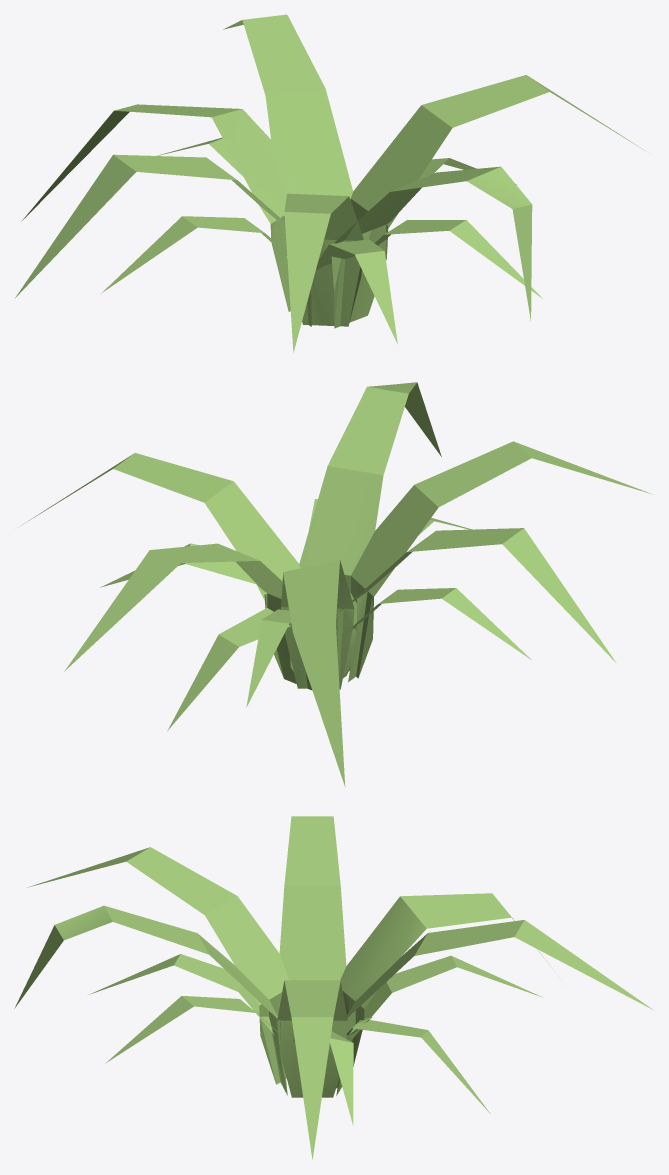
Rendered from Bush_Fern_03.fbx.
The picture shows the model from 3 angles, top to bottom: view 1: azimuth 30°, elevation 25°; view 2: azimuth 150°, elevation 25°; view 3: azimuth 270°, elevation 25°; orthographic projection. The views are drawn at different scales.
Parts seen in each view (by area): view 1: Model; view 2: Model; view 3: Model.
Part boxes in pixels (<box>): Model: <box>15,14,644,352</box>; Model: <box>21,382,651,786</box>; Model: <box>14,816,652,1159</box>.
Bounding box in the file's own units: 331 × 105 × 317.
